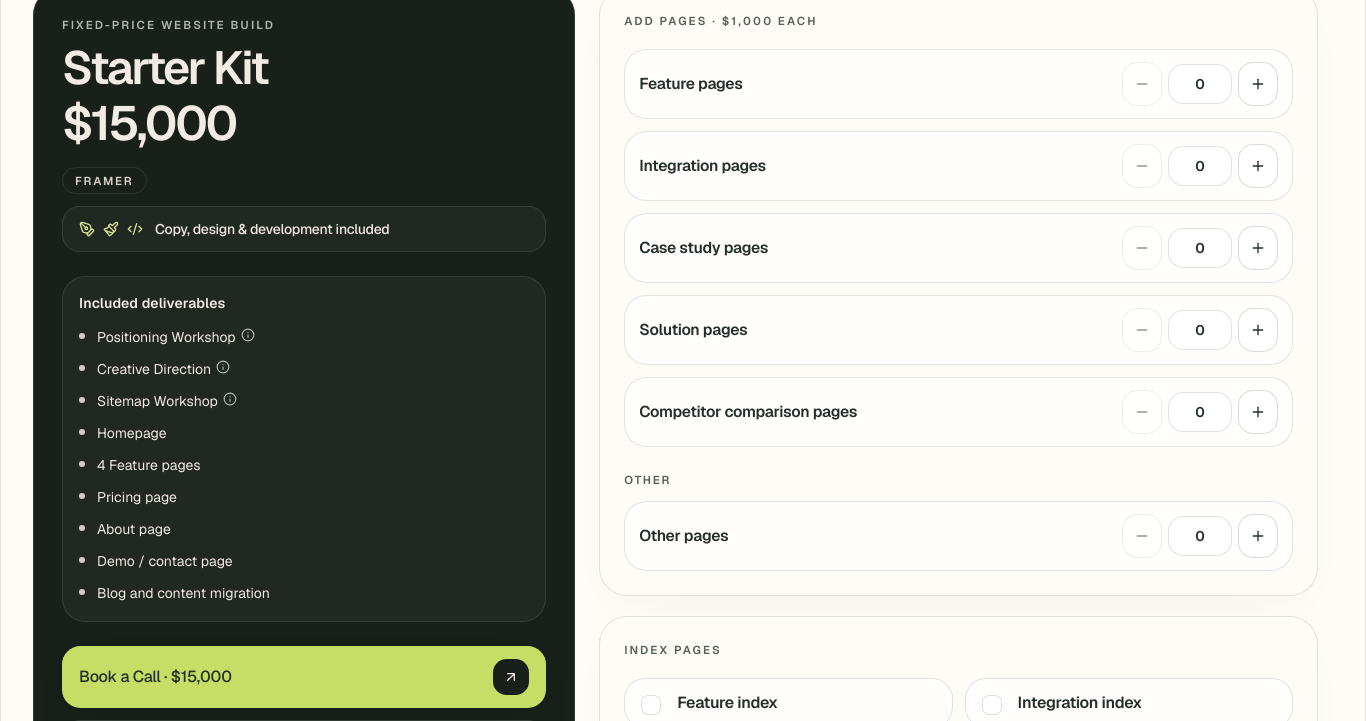
Test: WebsiteEstimator › updates the total and selected extras when counters and toggles change
Click the button named "Increase Feature pages": click(1258, 84) 1238,62 -> 1278,106
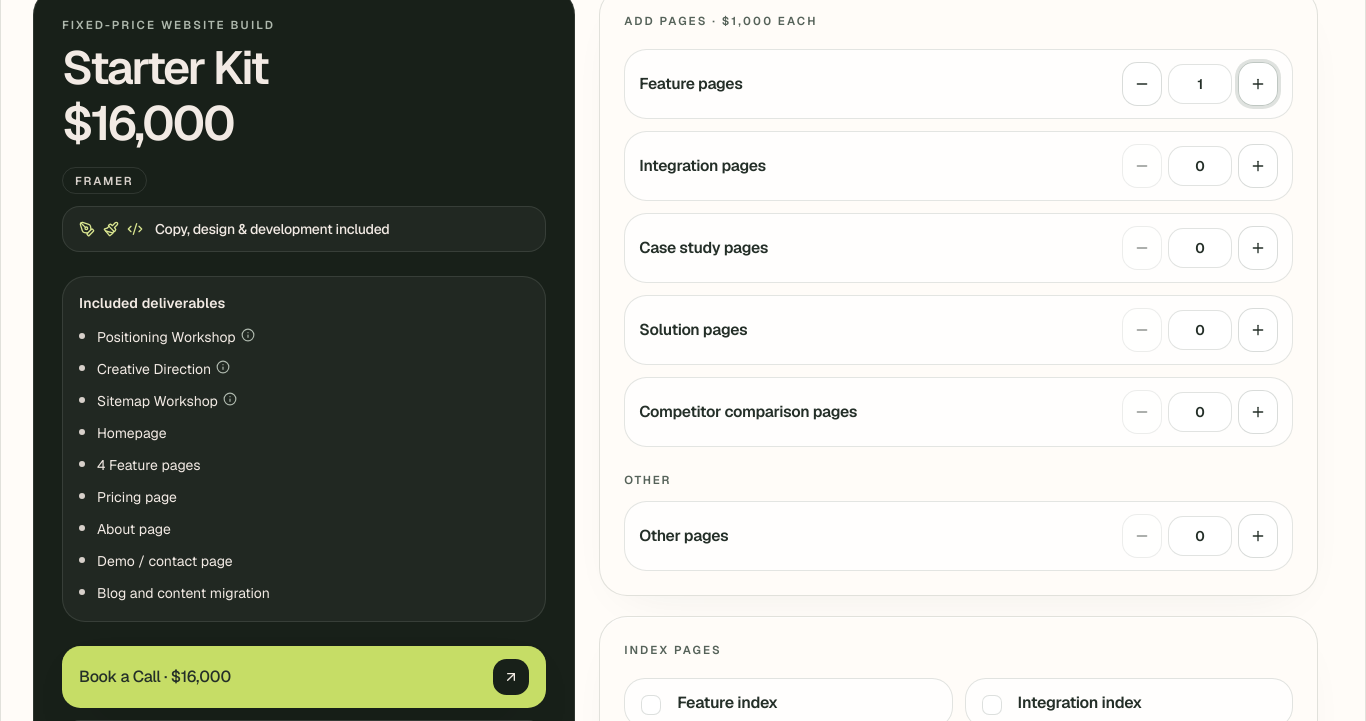
Click the button named "Increase Feature pages": click(1258, 84) 1238,62 -> 1278,106
(page scrolled)
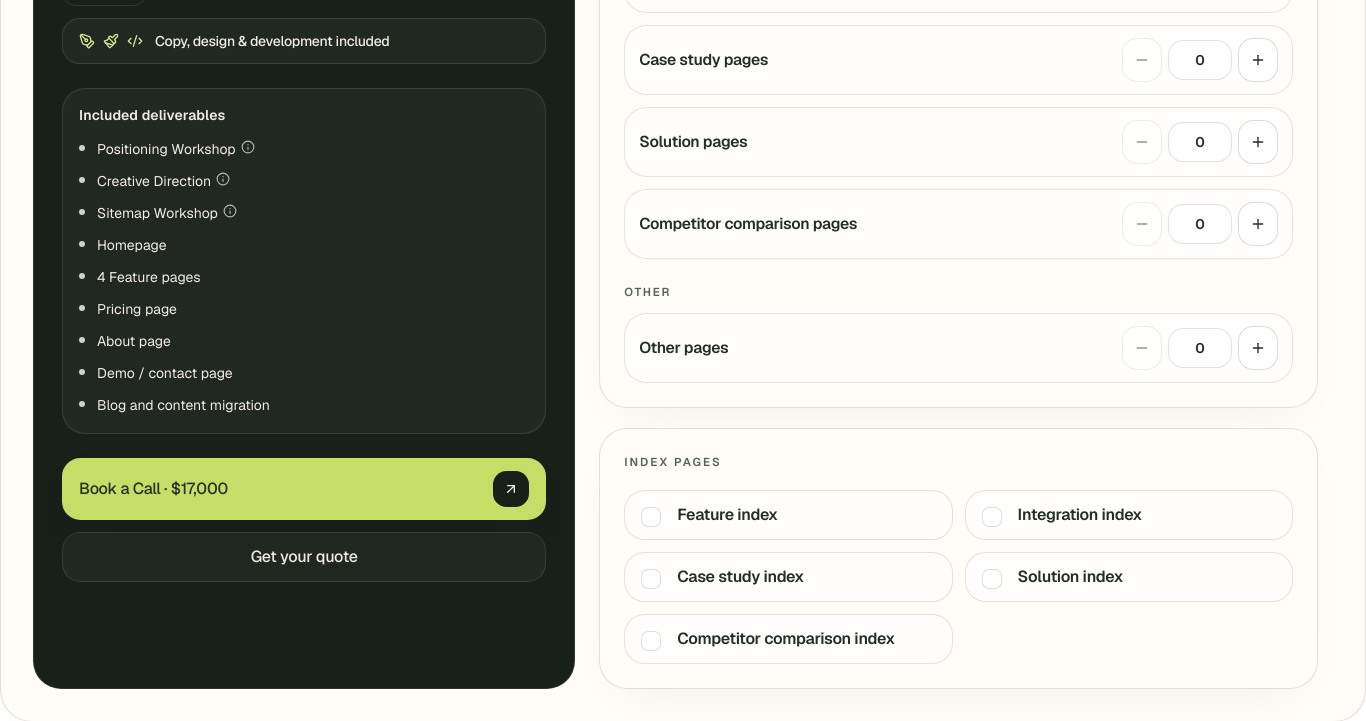
Click the checkbox named "Solution index" next to "Solution index": click(992, 579) 982,569 -> 1002,589
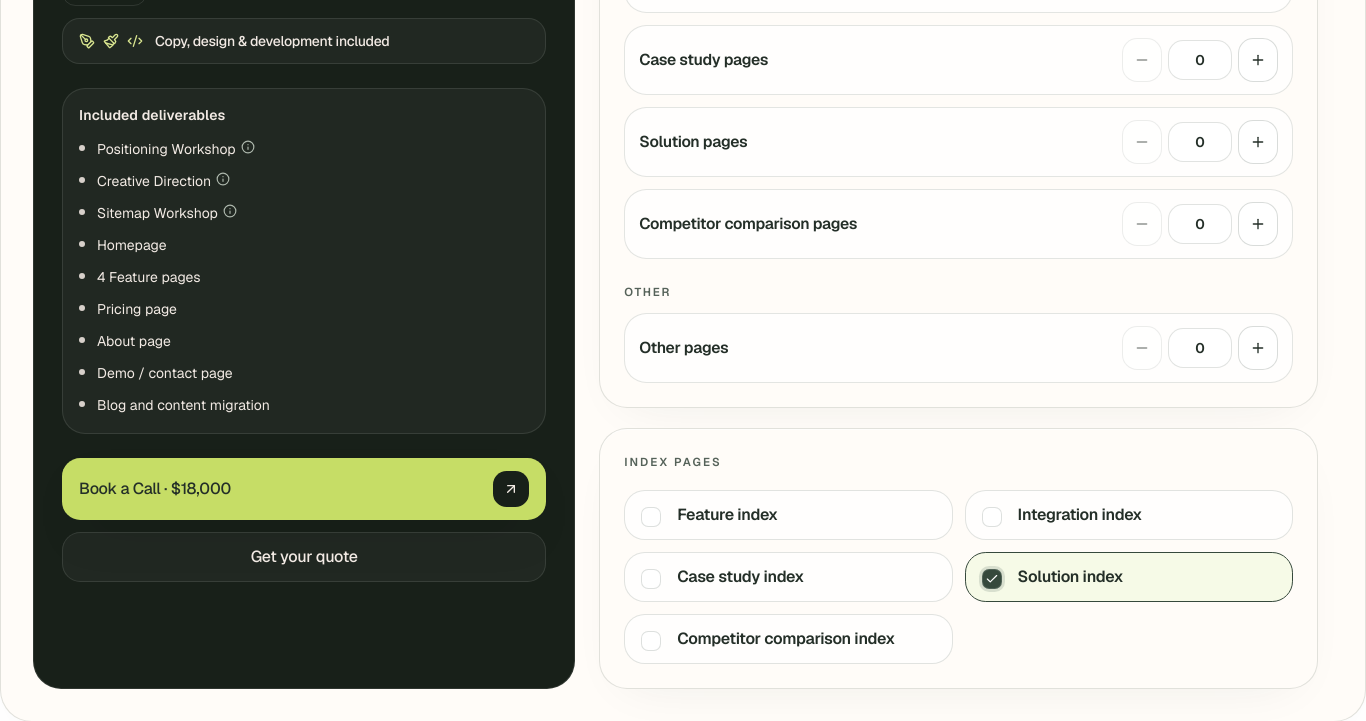
Now the link "Book a Call · $18,000" is shown, box 62,458 -> 546,520
